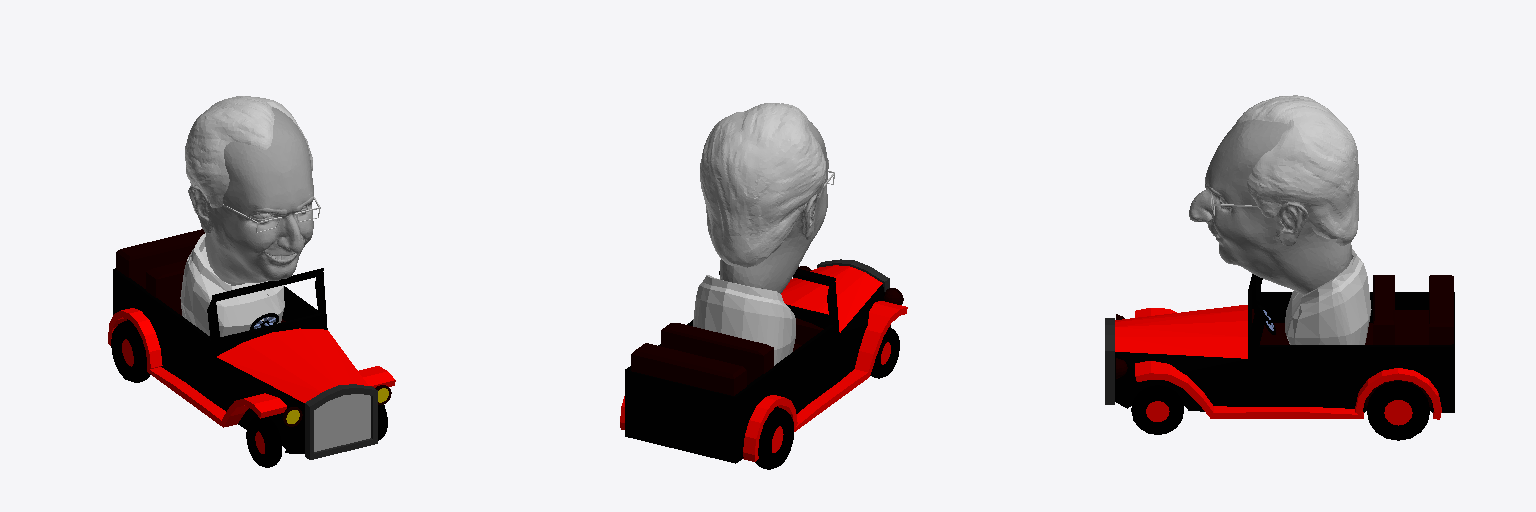
File: 01Cunhaj.obj
The picture shows the model from 3 angles: view 1: azimuth 30°, elevation 25°; view 2: azimuth 150°, elevation 25°; view 3: azimuth 270°, elevation 25°; orthographic projection.
Visible parts, largest first — view 1: Cube.006_Cube.008, cunhateste5, Sphere.001, Cube.005_Cube; view 2: Cube.006_Cube.008, Sphere.001, Cube.005_Cube, cunhateste5; view 3: Cube.006_Cube.008, cunhateste5, Sphere.001, Cube.005_Cube.
Boxes of the visible parts, <box> form: Cube.006_Cube.008: <box>108,229,395,467</box>; cunhateste5: <box>188,107,313,285</box>; Sphere.001: <box>185,96,312,213</box>; Cube.005_Cube: <box>180,233,284,336</box>; Cube.006_Cube.008: <box>620,259,907,469</box>; Sphere.001: <box>700,103,825,267</box>; Cube.005_Cube: <box>693,275,795,365</box>; cunhateste5: <box>720,120,828,293</box>; Cube.006_Cube.008: <box>1105,274,1454,440</box>; cunhateste5: <box>1189,119,1351,294</box>; Sphere.001: <box>1236,95,1358,245</box>; Cube.005_Cube: <box>1285,249,1371,344</box>.
Bounding box in the file's own units: 2.9 × 5.89 × 6.15.